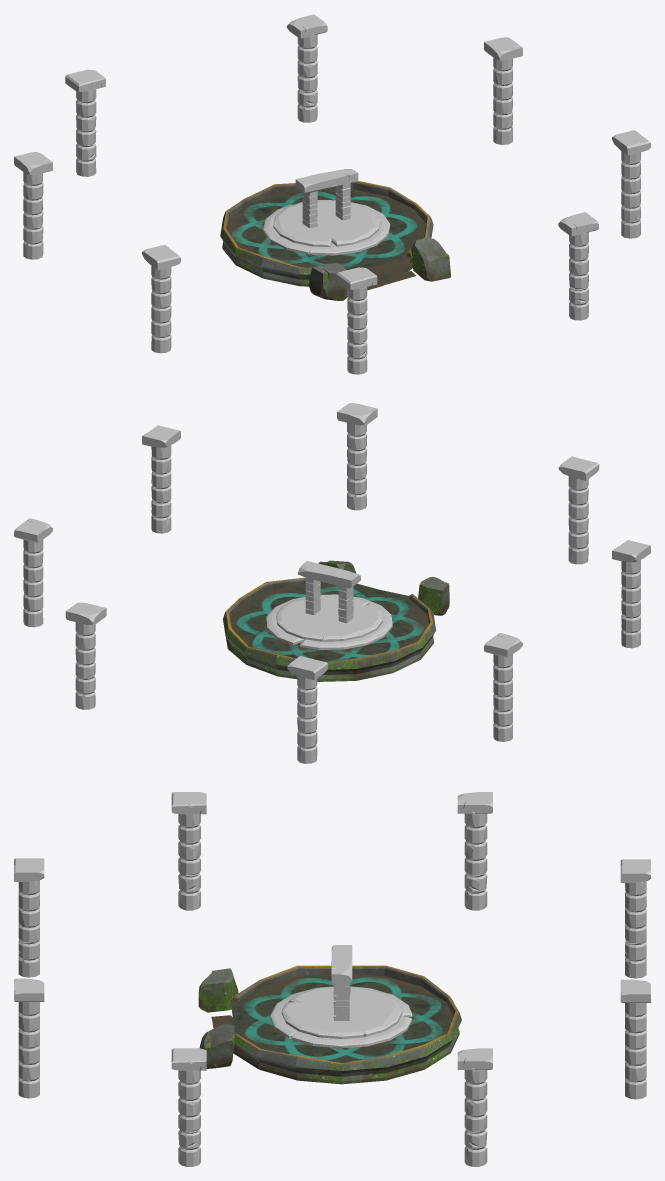
Rendered from Altar.fbx.
3 views of the same model, one above another, from view 1: azimuth 30°, elevation 25°; view 2: azimuth 150°, elevation 25°; view 3: azimuth 270°, elevation 25° (orthographic). The views are drawn at different scales.
Visible parts, largest first — view 1: Cylinder.002, Cylinder.009, Cylinder.014, Cylinder.003, Cylinder.017, Cylinder.013, Cylinder.018, Cylinder.004, Cylinder.016, Cylinder.015, Cylinder.010, Cube.026 (+10 smaller); view 2: Cylinder.002, Cylinder.009, Cylinder.015, Cylinder.003, Cylinder.014, Cylinder.016, Cylinder.013, Cylinder.017, Cylinder.004, Cylinder.018, Cylinder.010, Cube.023 (+9 smaller); view 3: Cylinder.002, Cylinder.009, Cylinder.018, Cylinder.016, Cylinder.015, Cylinder.017, Cylinder.004, Cylinder.014, Cylinder.013, Cylinder.010, Cylinder.003, Cube.027 (+10 smaller).
Boxes of the visible parts, x1,y1,x2,y2 form: Cylinder.002: [220, 181, 433, 290]; Cylinder.009: [273, 200, 380, 246]; Cylinder.014: [297, 34, 317, 122]; Cylinder.003: [347, 287, 367, 374]; Cylinder.017: [151, 266, 171, 353]; Cylinder.013: [76, 89, 96, 176]; Cylinder.018: [23, 172, 43, 259]; Cylinder.004: [569, 232, 588, 320]; Cylinder.016: [493, 57, 512, 144]; Cylinder.015: [621, 151, 640, 238]; Cylinder.010: [263, 202, 390, 255]; Cube.026: [411, 238, 450, 281]; Cylinder.002: [223, 577, 436, 681]; Cylinder.009: [276, 594, 382, 641]; Cylinder.015: [151, 445, 171, 533]; Cylinder.003: [568, 476, 588, 564]; Cylinder.014: [75, 622, 95, 709]; Cylinder.016: [23, 539, 43, 627]; Cylinder.013: [297, 675, 317, 763]; Cylinder.017: [621, 560, 640, 648]; Cylinder.004: [347, 422, 366, 510]; Cylinder.018: [493, 654, 512, 741]; Cylinder.010: [266, 596, 392, 649]; Cube.023: [298, 561, 360, 588]; Cylinder.002: [211, 965, 461, 1084]; Cylinder.009: [281, 986, 402, 1039]; Cylinder.018: [464, 813, 487, 910]; Cylinder.016: [464, 1070, 487, 1166]; Cylinder.015: [178, 1069, 200, 1166]; Cylinder.017: [178, 813, 200, 910]; Cylinder.004: [18, 1002, 39, 1098]; Cylinder.014: [625, 1003, 646, 1099]; Cylinder.013: [625, 881, 646, 978]; Cylinder.010: [270, 986, 412, 1048]; Cylinder.003: [18, 880, 39, 977]; Cube.027: [198, 968, 238, 1012].
Size of the model in its own units: 12270 by 2386 by 12270.
